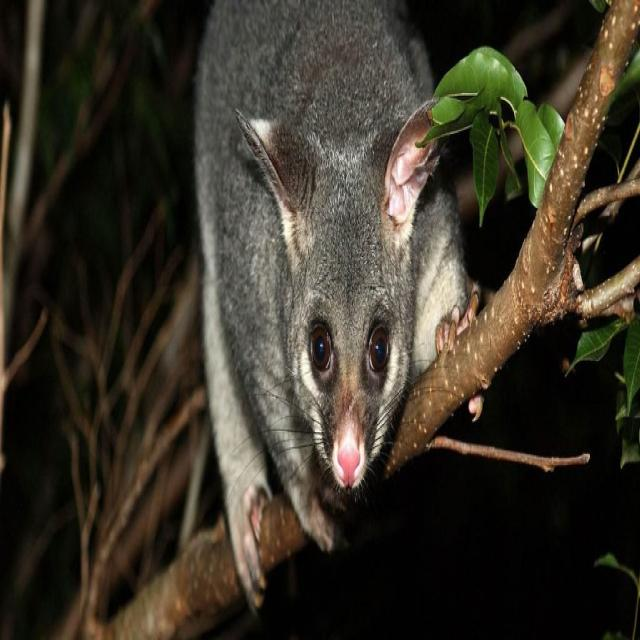Possum: (190, 3, 480, 602)
